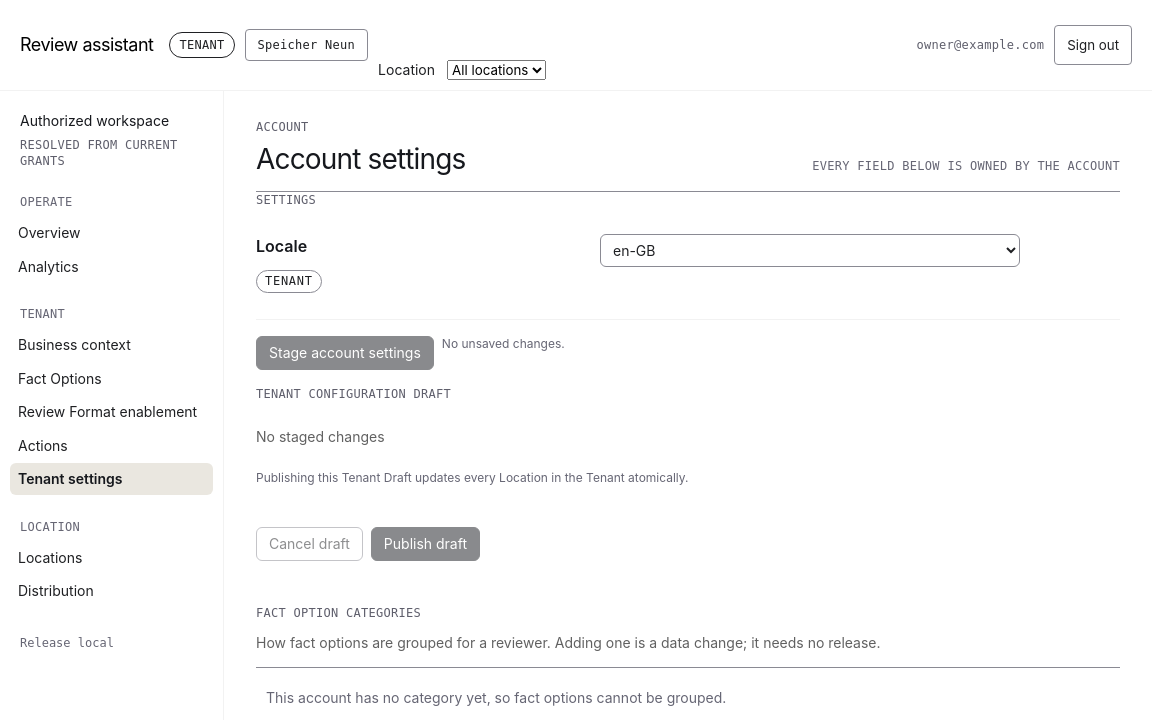
Console forms offer the choices the data allows › does not offer a save until something has changed
Expected: the button "Stage account settings" is disabled, [256, 336, 434, 370]
Select "de-DE" in the dropdown labelled "Locale": (810, 251) [600, 234, 1020, 267]
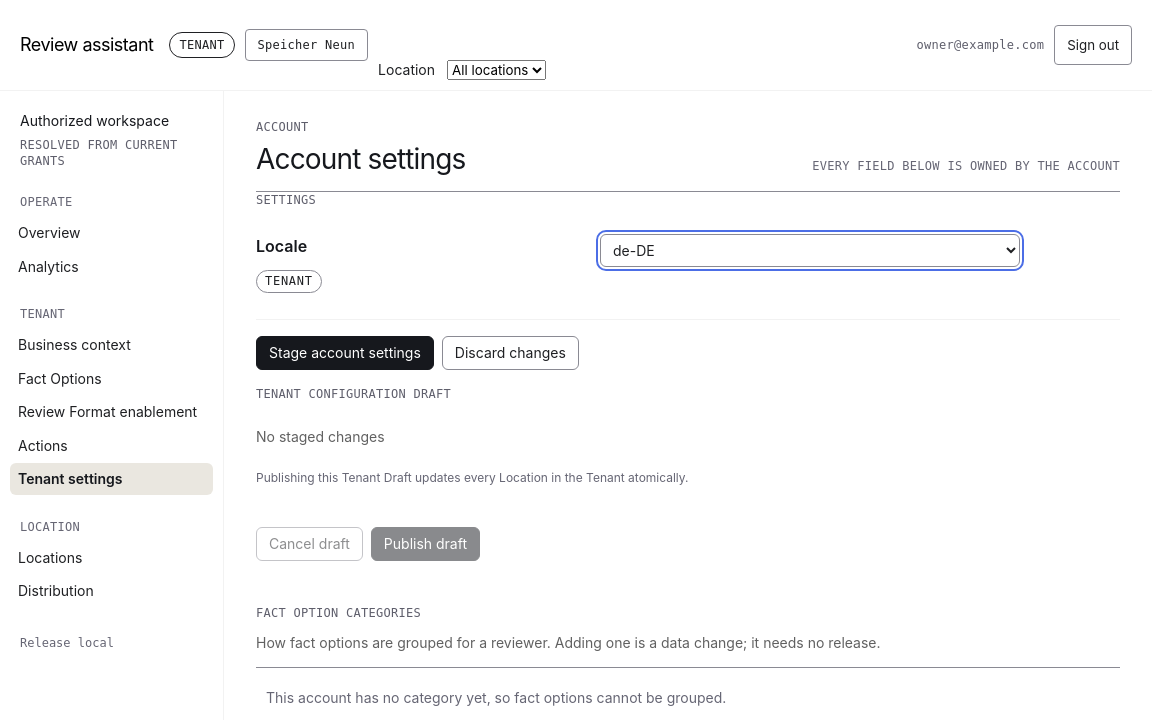
Result: the button "Stage account settings" is enabled at [256, 336, 434, 370]
Result: the button "Discard changes" is shown at [442, 336, 579, 370]
